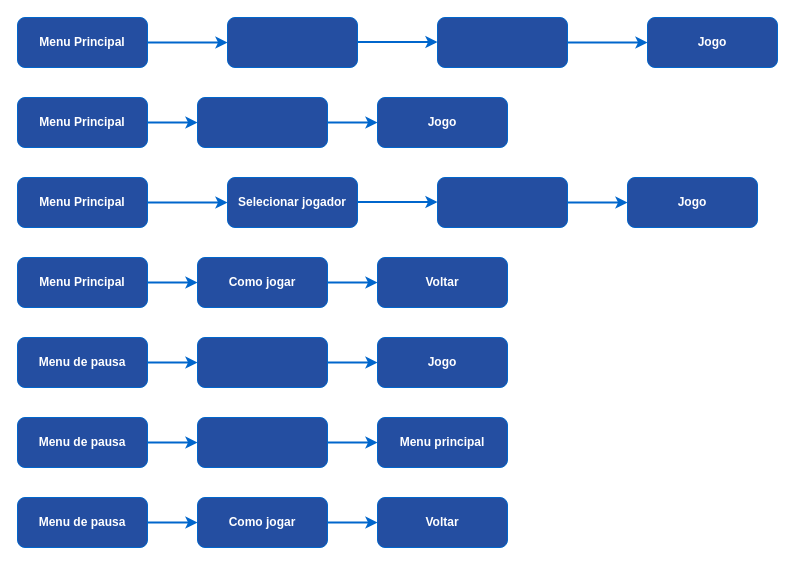
Image size: 795x565. Some labels were removed from this diagram. The box of each missing label's shape, as (x1, y1, x2, y2) in pixels:
Continuar: (196, 336, 328, 388)
Continuar jogo: (196, 96, 328, 148)
Escolher jogador: (436, 176, 568, 228)
Novo Jogo: (226, 16, 358, 68)
Selecionar personagem e nome: (436, 16, 568, 68)
Voltar ao menu: (196, 416, 328, 468)
